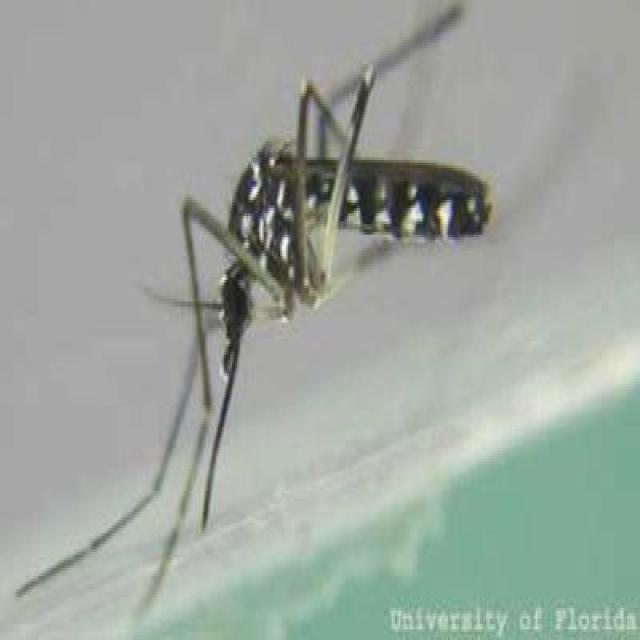antennae: (132, 270, 225, 326)
body: (220, 148, 490, 350)
insect: (17, 61, 494, 611)
legs: (19, 190, 236, 612), (297, 62, 380, 310)
mouthpart: (203, 335, 241, 536)
wings: (281, 144, 491, 193)
